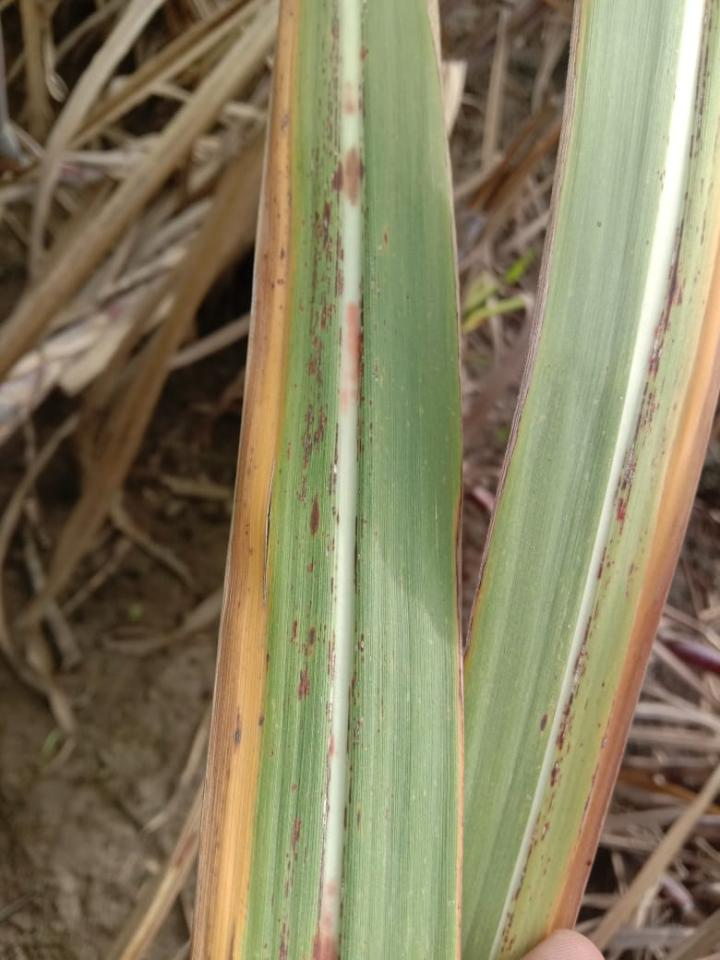RedRot: (338, 297, 360, 418), (343, 141, 366, 210), (319, 913, 336, 959), (343, 102, 358, 118)
Rust: (499, 535, 618, 957), (610, 214, 690, 537), (303, 0, 347, 390), (336, 616, 369, 959), (293, 395, 331, 539), (687, 0, 718, 164), (282, 616, 338, 706), (356, 273, 375, 464), (282, 814, 304, 902), (356, 0, 369, 125), (325, 421, 340, 529), (274, 913, 293, 959), (352, 512, 361, 596), (302, 557, 318, 577), (538, 711, 549, 737), (382, 227, 390, 249)
Yellow: (546, 242, 719, 932), (192, 0, 300, 959)
